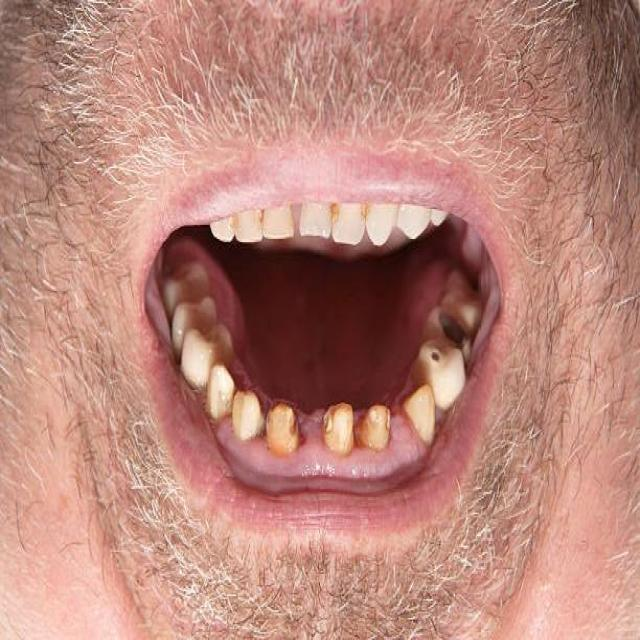caries: (263, 397, 302, 458), (321, 400, 356, 462), (361, 400, 398, 457), (437, 300, 476, 352), (320, 195, 346, 231), (422, 339, 442, 374), (253, 203, 275, 231)
